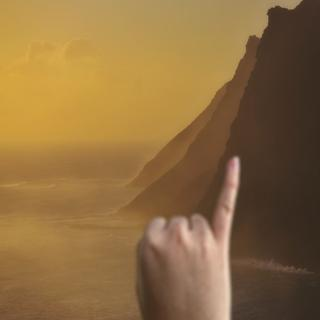Fine: (125, 152, 243, 317)
